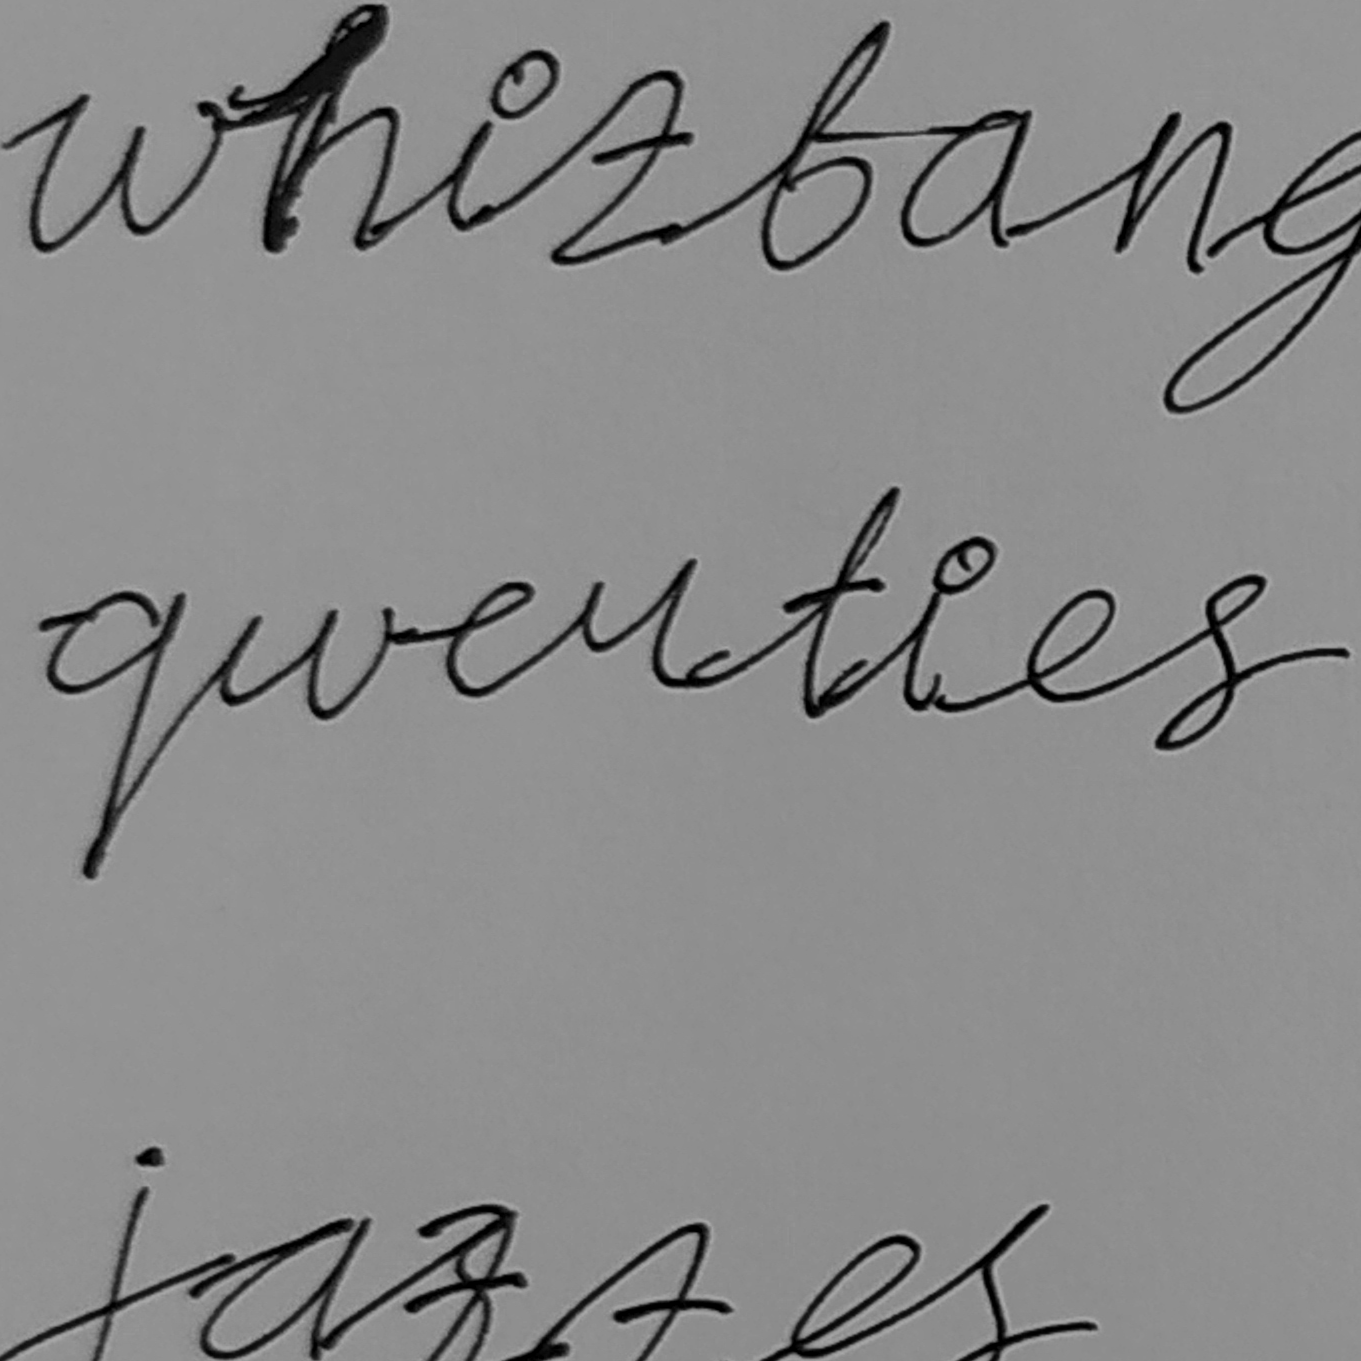e: (1022, 583, 1124, 709), (440, 576, 541, 702)
i: (899, 528, 1001, 718)
q: (37, 583, 189, 882)
r: (575, 555, 714, 695)
s: (1149, 570, 1273, 757)
t: (776, 484, 902, 720)
w: (214, 599, 401, 724)
